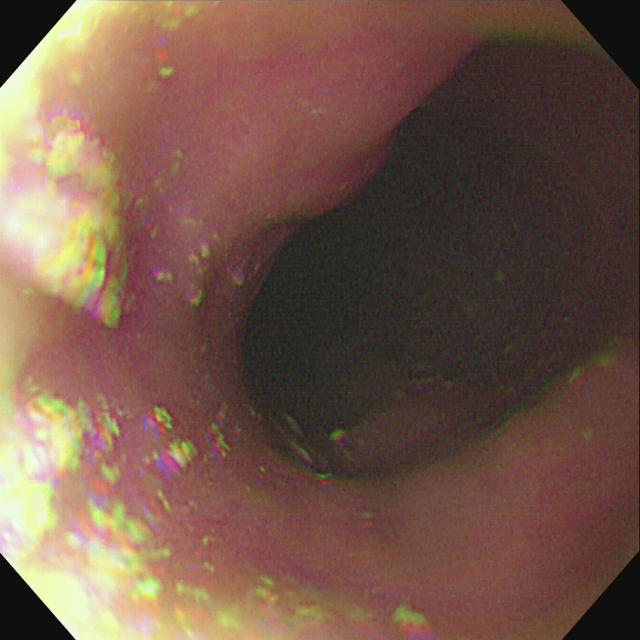E: (229, 161, 492, 490)
J: (2, 394, 234, 611), (38, 111, 133, 332)
